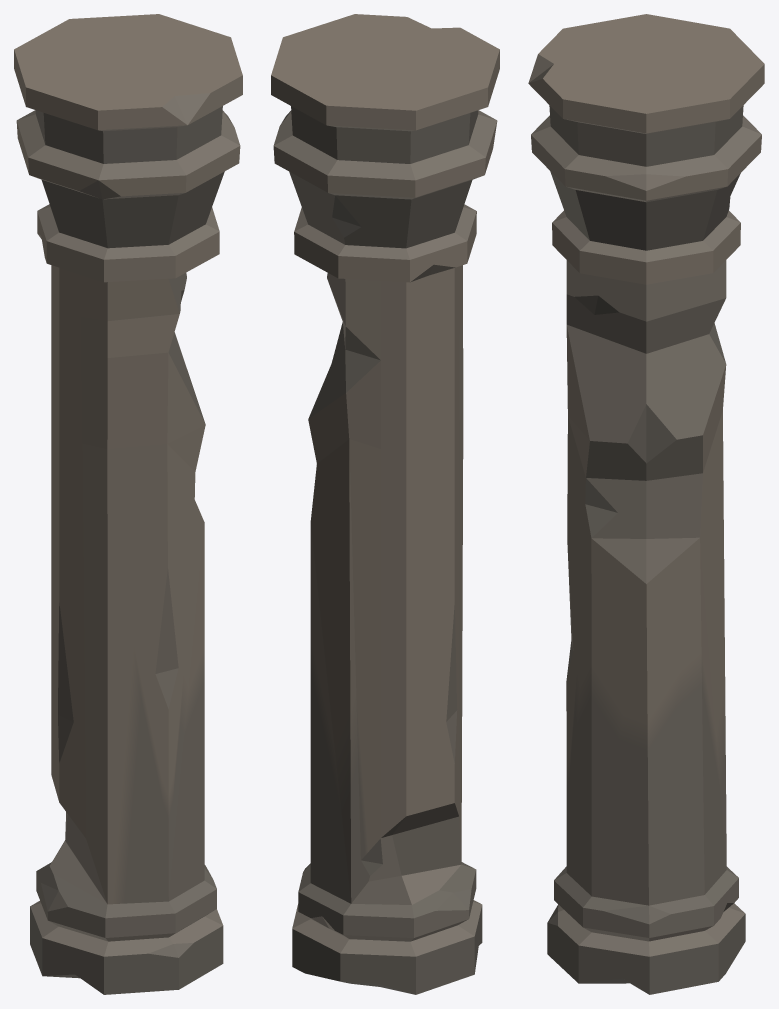
The model's file is bog_ruins_pillar.gltf.
The picture shows the model from 3 angles, left to right: view 1: azimuth 30°, elevation 25°; view 2: azimuth 150°, elevation 25°; view 3: azimuth 270°, elevation 25°; orthographic projection.
Parts seen in each view (by area): view 1: bog_ruins_pillar; view 2: bog_ruins_pillar; view 3: bog_ruins_pillar.
Part boxes in pixels (x1,y1,x2,y2): bog_ruins_pillar: (14,14,242,994); bog_ruins_pillar: (271,14,499,994); bog_ruins_pillar: (528,14,764,994).
Size of the model in its own units: 0.664 by 2.76 by 0.664.
Materials: 1 (1 with a texture image).
